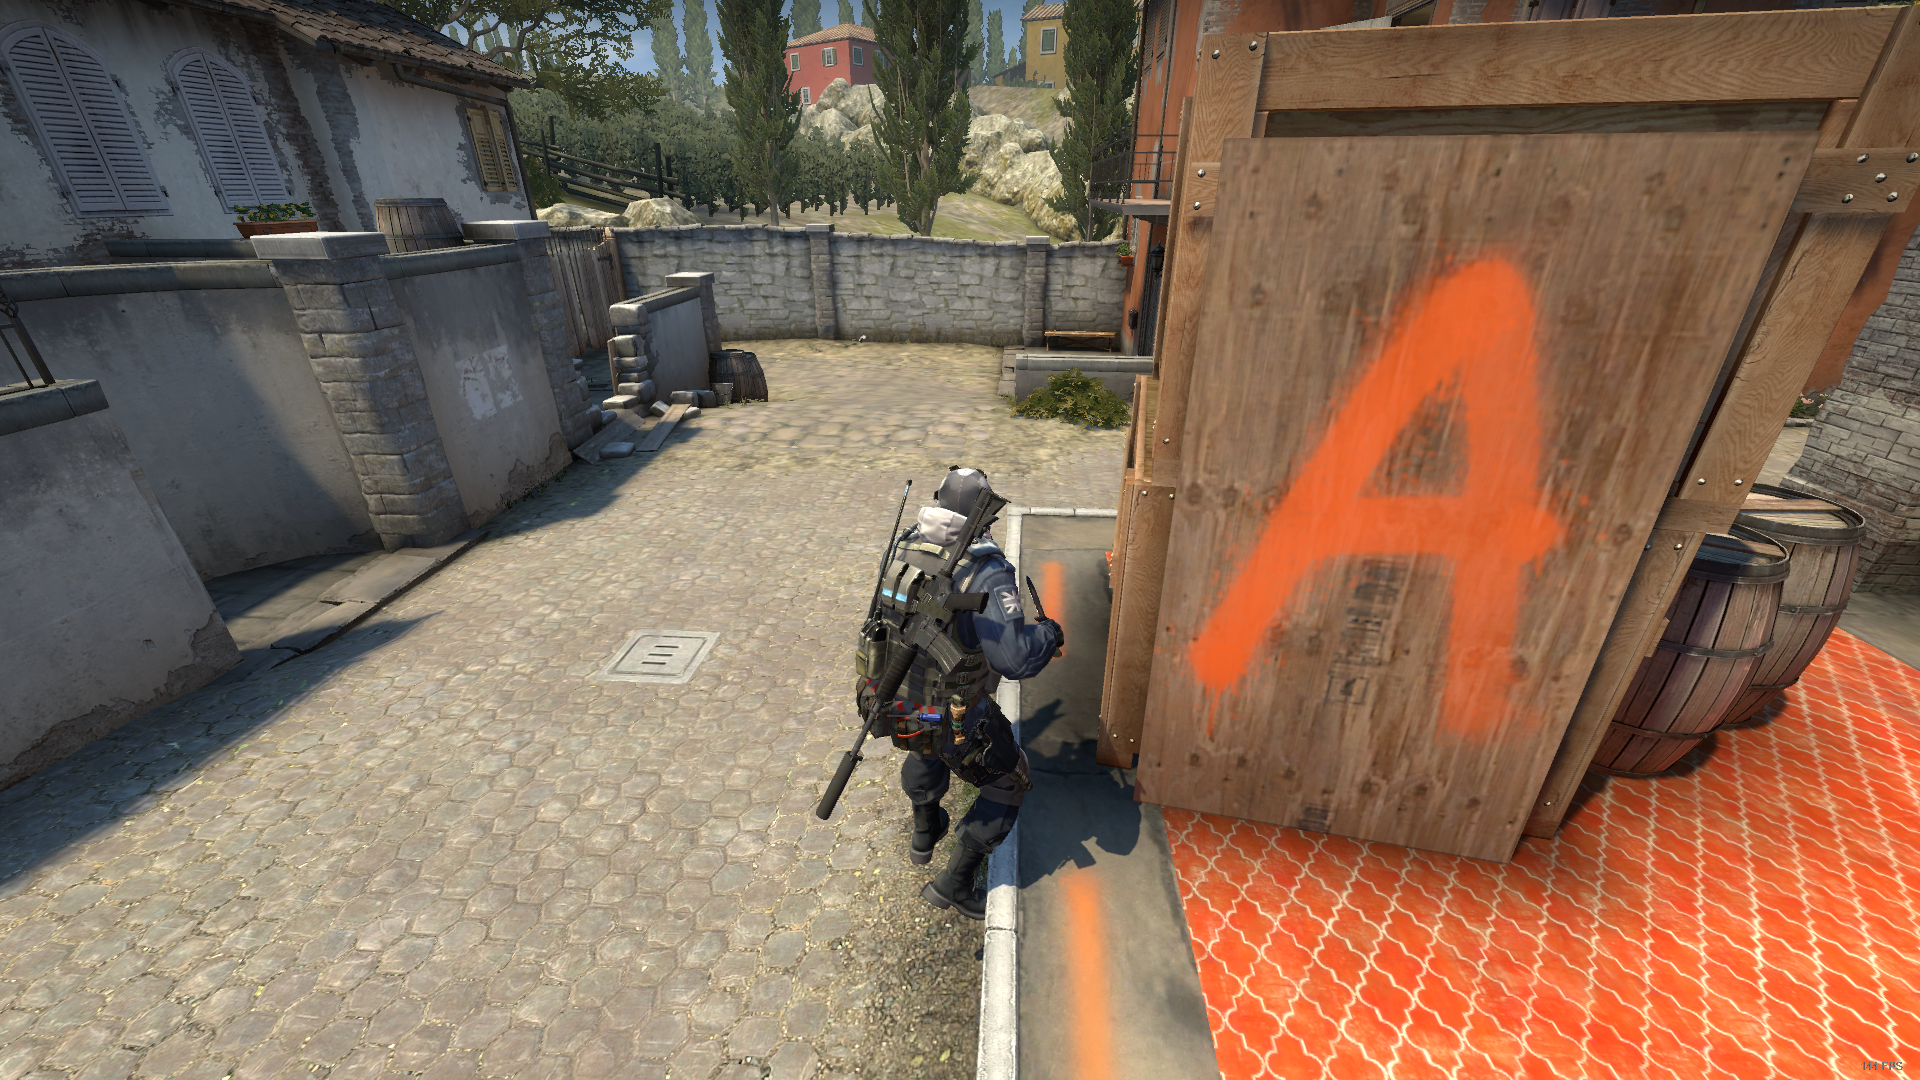ct: (858, 467, 1065, 922)
